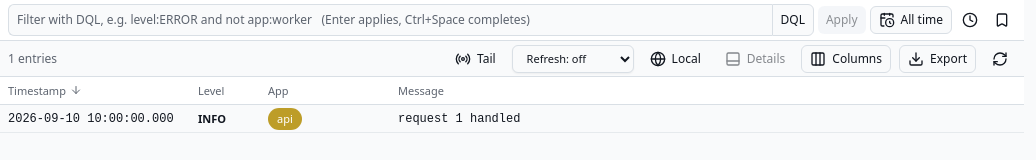
Test case: LogTable › switches the time zone display
The width and height of the screenshot is (1036, 160).
Click the button with aria-label "time zone" at (675, 58), box [642, 44, 709, 72]
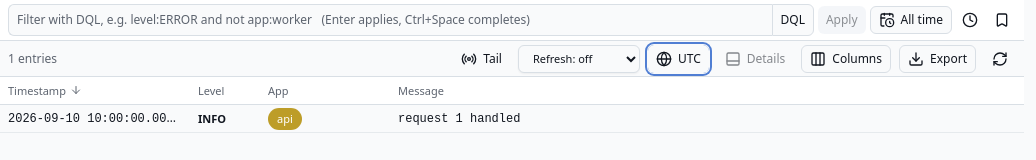
Check: the row "2026-09-10 10:00:00.000 Z INFO api request 1 handled" is shown, box [0, 105, 1024, 133]
